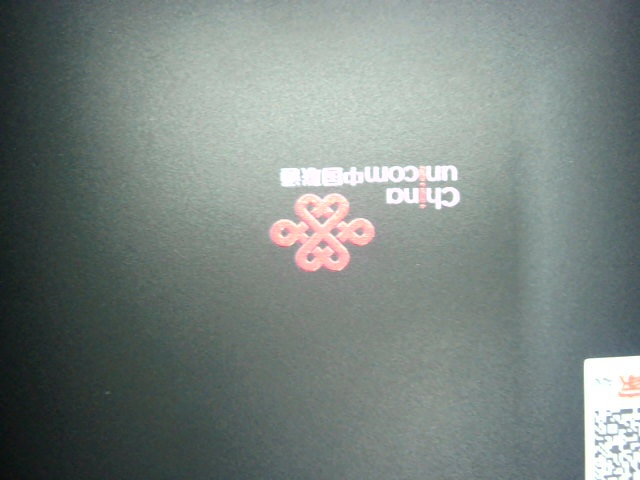AC_ChinaUnicom: (254, 156, 470, 284)
